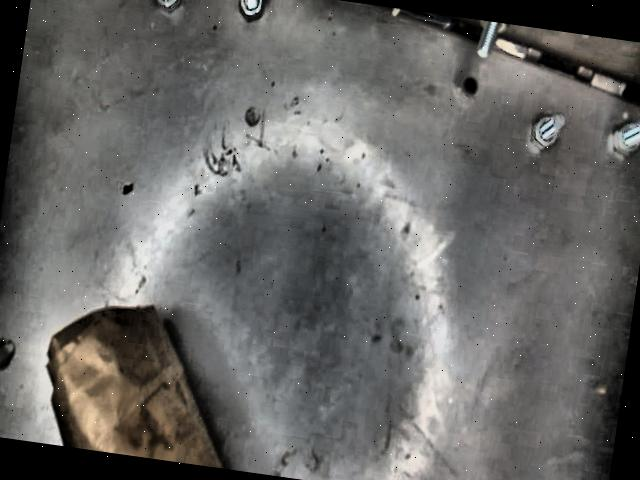Paper: (44, 304, 225, 465)
